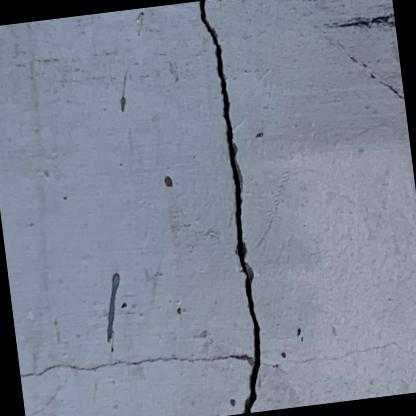crack: (197, 0, 262, 414)
